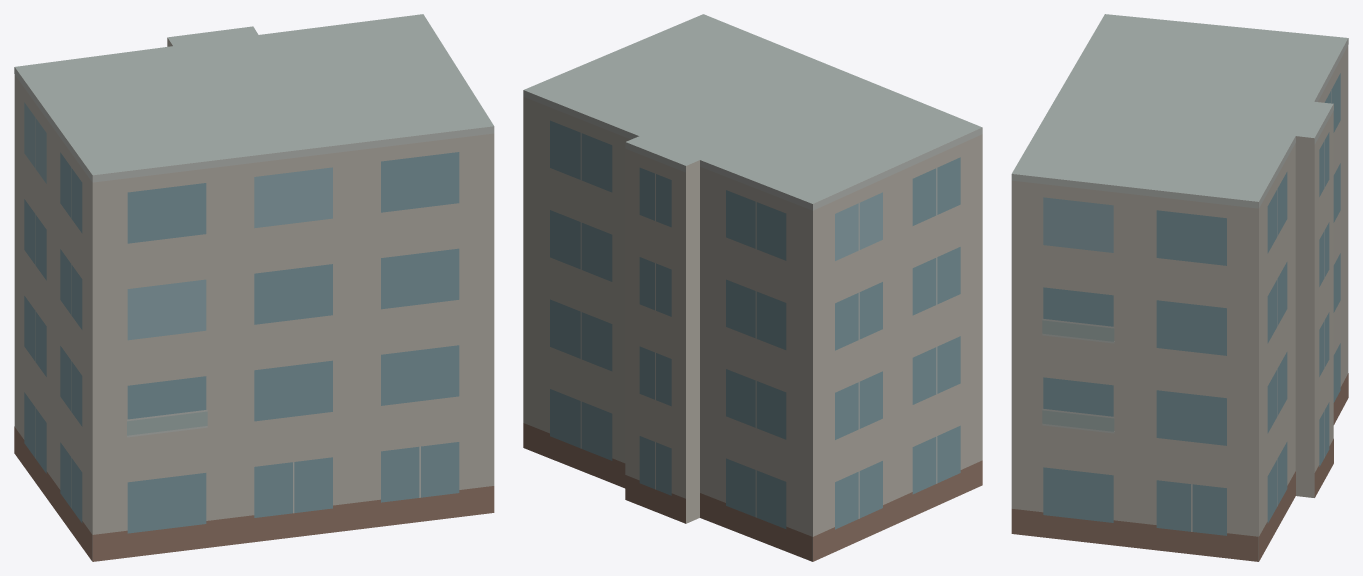
The model's file is survey-upis-32675555.glb.
3 renders of one model, left to right at view 1: azimuth 30°, elevation 25°; view 2: azimuth 150°, elevation 25°; view 3: azimuth 270°, elevation 25°, orthographic. The views are drawn at different scales.
Visible parts, largest first — view 1: survey-upis-32675555.tmp; view 2: survey-upis-32675555.tmp; view 3: survey-upis-32675555.tmp.
Boxes of the visible parts, x1,y1,x2,y2 form: survey-upis-32675555.tmp: (14,14,494,561); survey-upis-32675555.tmp: (523,14,982,561); survey-upis-32675555.tmp: (1011,14,1348,561).
Size of the model in its own units: 14.62 by 13.05 by 11.08.
